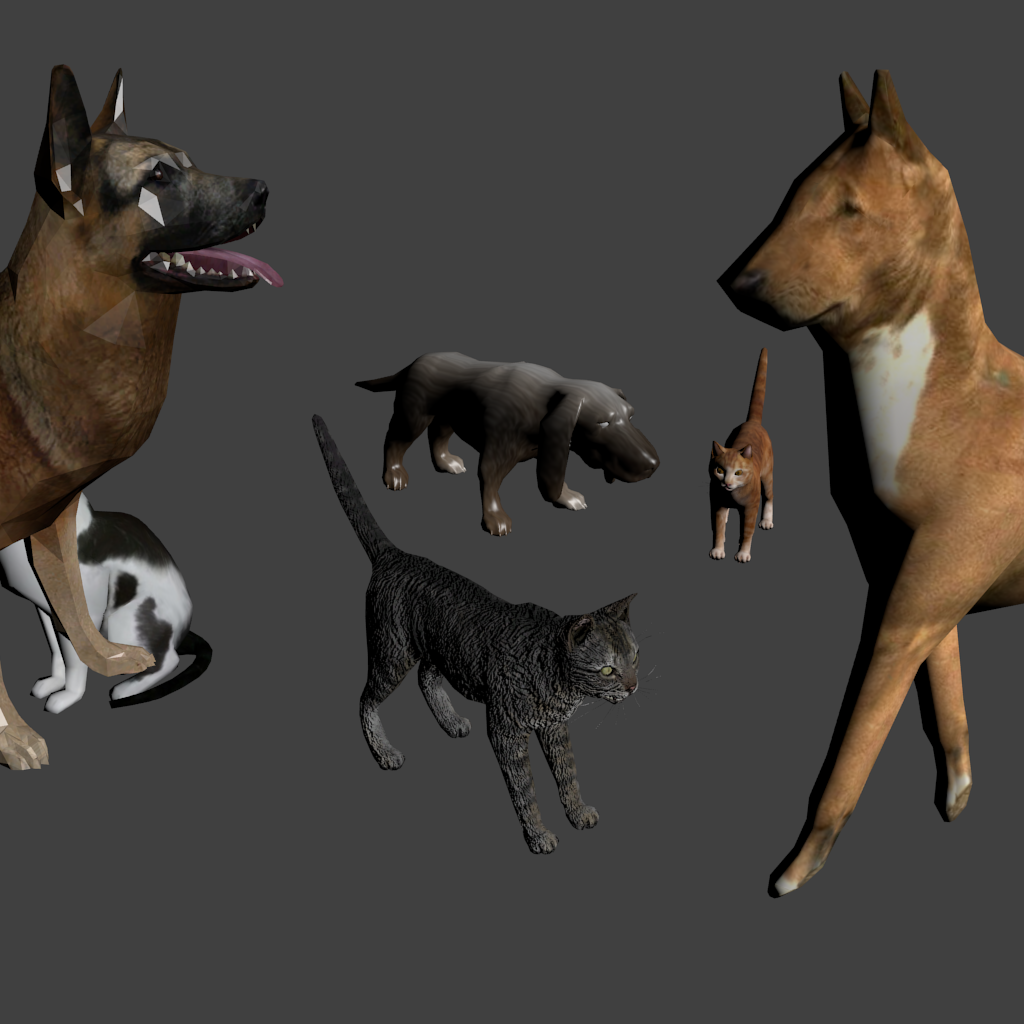Cat: (312, 414, 361, 441)
Dog: (0, 64, 284, 706)
